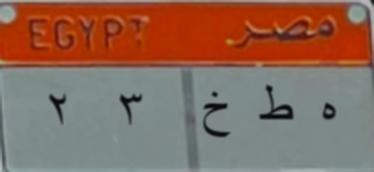2: (44, 89, 74, 132)
3: (115, 87, 149, 137)
Taa: (252, 78, 300, 140)
haa: (314, 93, 344, 132)
khaa: (196, 82, 233, 148)
